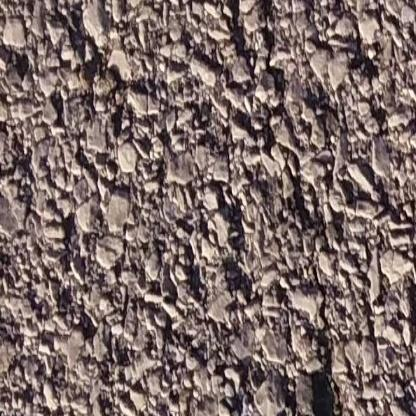Cracks: (312, 363, 344, 416)
